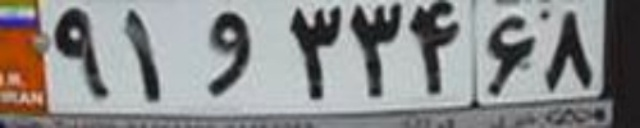1: (118, 7, 162, 102)
3: (347, 3, 402, 97), (287, 4, 340, 100)
4: (404, 2, 458, 94)
6: (481, 13, 533, 93)
8: (548, 11, 592, 92)
9: (49, 7, 108, 97)
vav: (196, 10, 251, 95)
